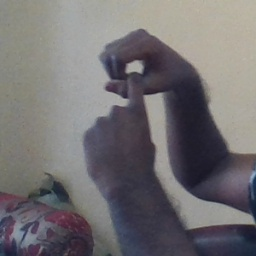Q: (82, 24, 186, 170)
